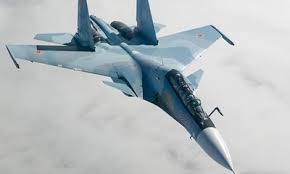maybay_muctieu: (7, 1, 238, 171)
